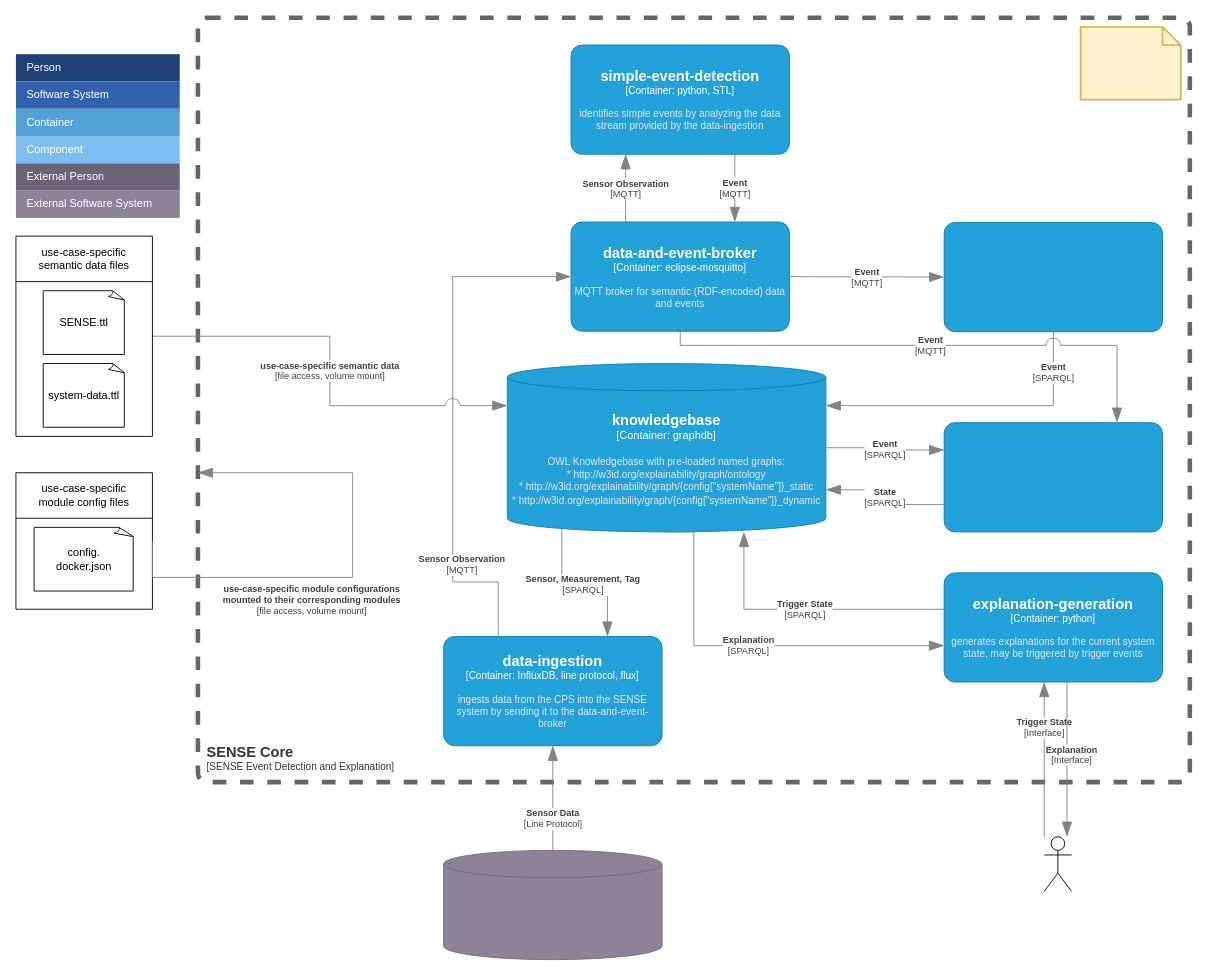
Image size: 1208x976. Some labels were removed from this diagram. Each missing label, with the centre of its shape:
Actor: pixel 1057 863
event-to-state-causality [Container: java]: pixel 1053 477
semantic-event-log-bridge [Container: python]: pixel 1053 277
SENSE Core: pixel 1130 62
time-series database [Container: Influx] OWL Ontology: pixel 552 904
